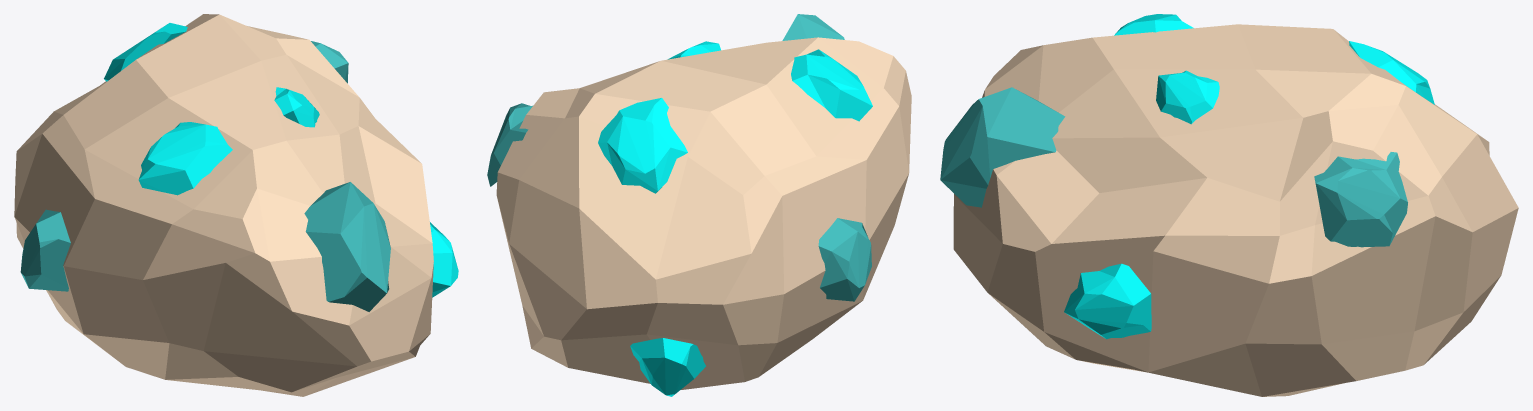
File: MineralNode_07_B.fbx
The picture shows the model from 3 angles, left to right: view 1: azimuth 30°, elevation 25°; view 2: azimuth 150°, elevation 25°; view 3: azimuth 270°, elevation 25°; orthographic projection. The views are drawn at different scales.
Visible parts, largest first — view 1: MineralNode_07_B; view 2: MineralNode_07_B; view 3: MineralNode_07_B.
Boxes of the visible parts, <box> form: MineralNode_07_B: <box>14,14,458,396</box>; MineralNode_07_B: <box>487,14,911,396</box>; MineralNode_07_B: <box>940,14,1518,396</box>.
Bounding box in the file's own units: 82 × 59.94 × 105.
